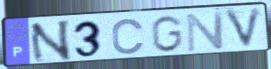3: (72, 19, 108, 60)
C: (110, 17, 146, 56)
G: (150, 14, 185, 54)
N: (28, 18, 74, 65), (184, 10, 226, 54)
V: (222, 6, 265, 52)
